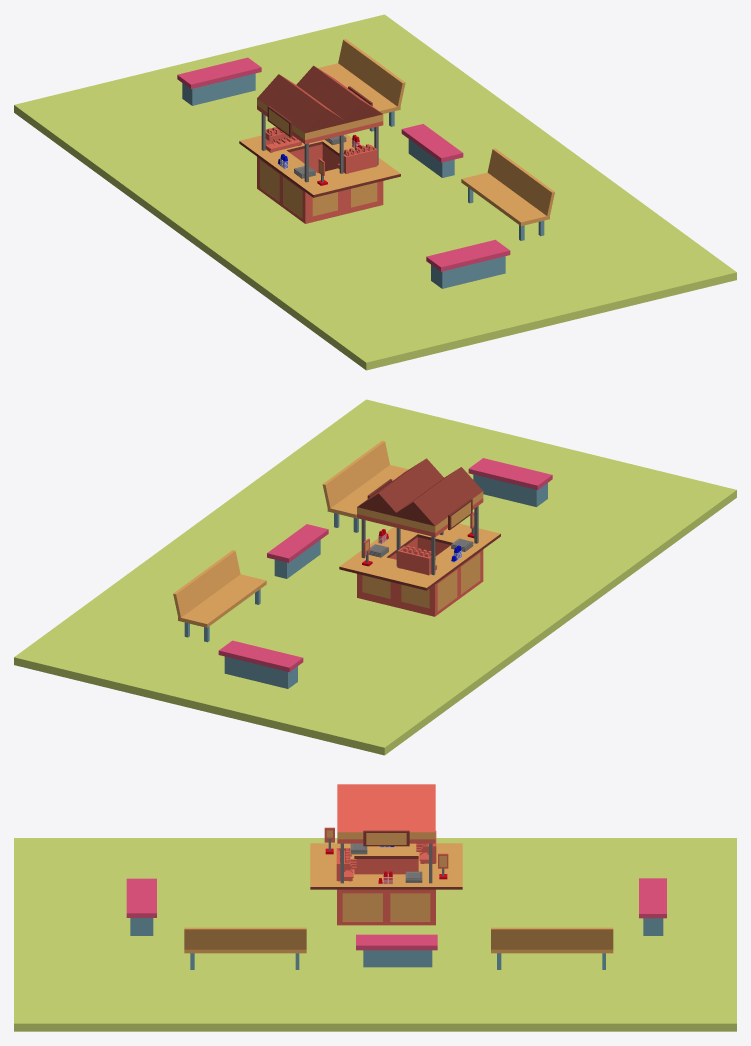
File: Coffee area.fbx
3 renders of one model, top to bottom at view 1: azimuth 30°, elevation 25°; view 2: azimuth 150°, elevation 25°; view 3: azimuth 270°, elevation 25°, orthographic. The views are drawn at different scales.
Visible parts, largest first — view 1: Cube.001, coffee area; view 2: Cube.001, coffee area; view 3: Cube.001, coffee area.
Boxes of the visible parts, bbox=[...] form: Cube.001: bbox=[14, 14, 736, 370]; coffee area: bbox=[239, 65, 400, 223]; Cube.001: bbox=[14, 399, 736, 755]; coffee area: bbox=[339, 458, 500, 616]; Cube.001: bbox=[14, 838, 736, 1031]; coffee area: bbox=[310, 784, 462, 925].
Size of the model in its own units: 1000 by 302 by 1646.
